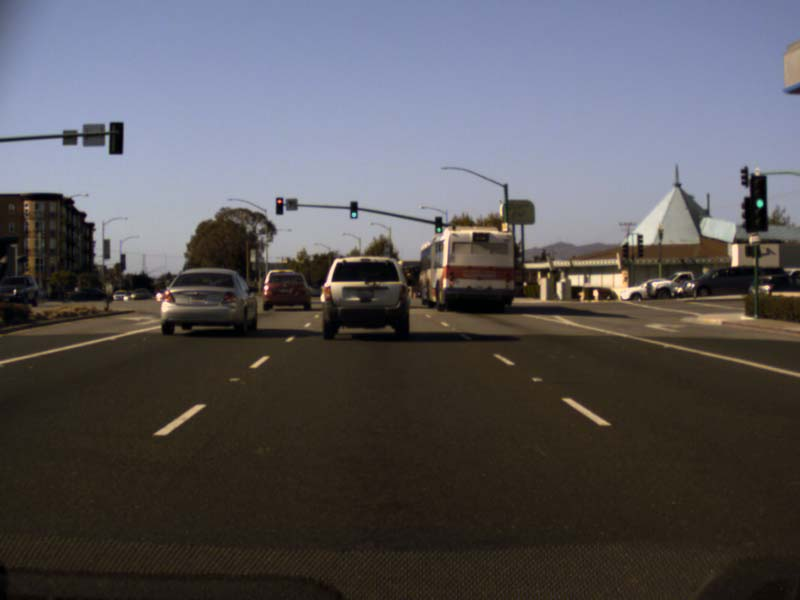Green: (750, 173, 767, 232), (433, 215, 442, 233), (349, 200, 357, 219)
Red: (275, 196, 282, 214)
